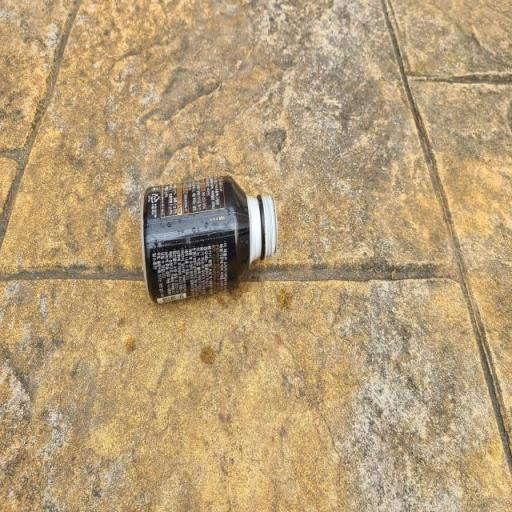metal: (123, 150, 286, 326)
